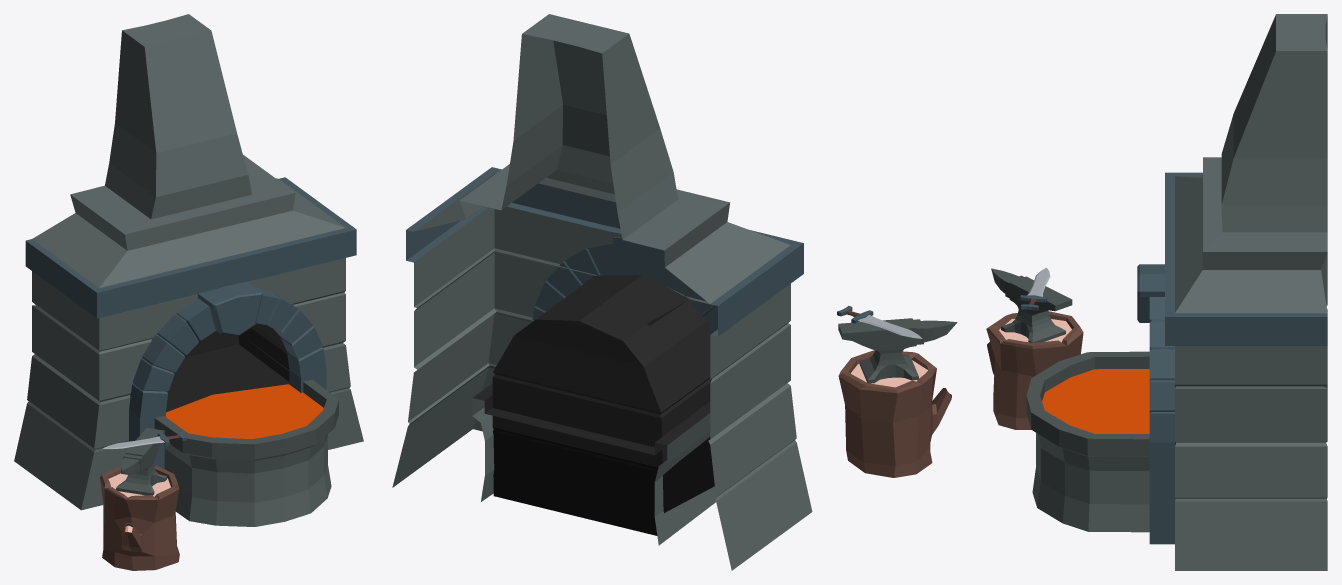
Rendered from Herreria.FBX.
3 views of the same model, side by side, from view 1: azimuth 30°, elevation 25°; view 2: azimuth 150°, elevation 25°; view 3: azimuth 270°, elevation 25° (orthographic). The views are drawn at different scales.
Parts seen in each view (by area): view 1: Box002; view 2: Box002; view 3: Box002.
Boxes of the visible parts, bbox=[...] form: Box002: bbox=[14, 14, 363, 570]; Box002: bbox=[392, 14, 957, 570]; Box002: bbox=[986, 14, 1327, 570].
Bounding box in the file's own units: 81.66 × 65.78 × 97.8.
